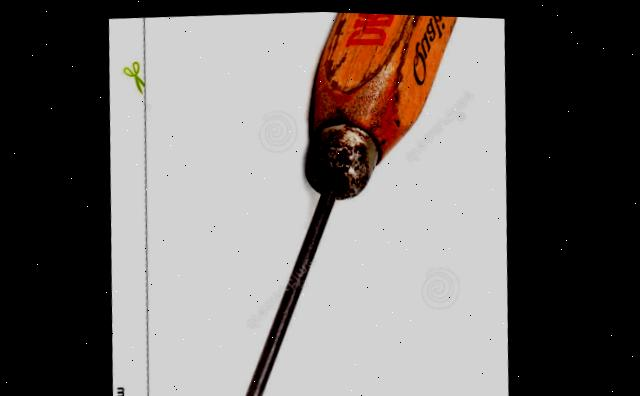ice pick: (178, 6, 512, 396)
